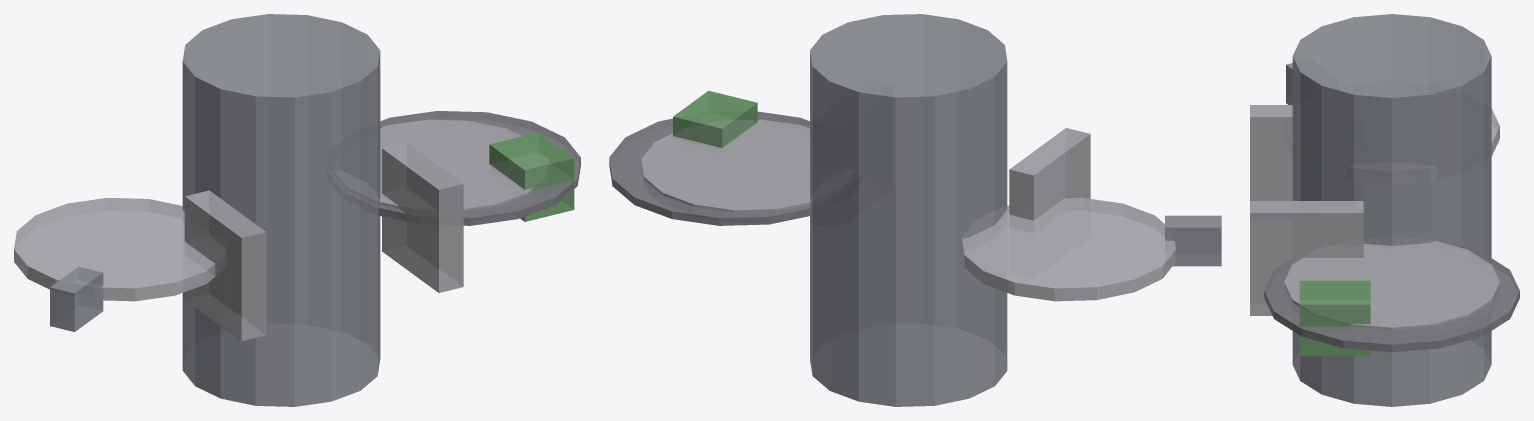
The model's file is ball_mill.glb.
3 renders of one model, left to right at view 1: azimuth 30°, elevation 25°; view 2: azimuth 150°, elevation 25°; view 3: azimuth 270°, elevation 25°, orthographic.
Parts seen in each view (by area): view 1: Drum, EndCap_-6.5, DriveGear, EndCap_6.5, Cradle_4, Cradle_-4, Motor, FeedChute; view 2: Drum, EndCap_-6.5, DriveGear, EndCap_6.5, Cradle_-4, Motor, FeedChute; view 3: Drum, DriveGear, EndCap_6.5, Cradle_4, Motor, Cradle_-4, EndCap_-6.5, FeedChute.
Part boxes in pixels (x1,y1,x2,y2): Drum: [182, 14, 380, 406]; EndCap_-6.5: [14, 198, 225, 301]; DriveGear: [327, 111, 580, 225]; EndCap_6.5: [335, 119, 548, 218]; Cradle_4: [382, 142, 463, 292]; Cradle_-4: [184, 190, 266, 340]; Motor: [489, 132, 574, 221]; FeedChute: [50, 266, 103, 331]; Drum: [810, 14, 1007, 406]; EndCap_-6.5: [962, 198, 1175, 301]; DriveGear: [609, 111, 862, 225]; EndCap_6.5: [641, 119, 854, 219]; Cradle_-4: [1009, 128, 1090, 232]; Motor: [673, 90, 757, 149]; FeedChute: [1165, 215, 1221, 266]; Drum: [1292, 14, 1491, 406]; DriveGear: [1264, 241, 1519, 352]; EndCap_6.5: [1284, 237, 1499, 337]; Cradle_4: [1250, 201, 1363, 315]; Motor: [1299, 280, 1370, 356]; Cradle_-4: [1250, 105, 1292, 200]; EndCap_-6.5: [1348, 109, 1499, 183]; FeedChute: [1286, 63, 1292, 104].
Bounding box in the file's own units: 22.54 × 12 × 9.5.
